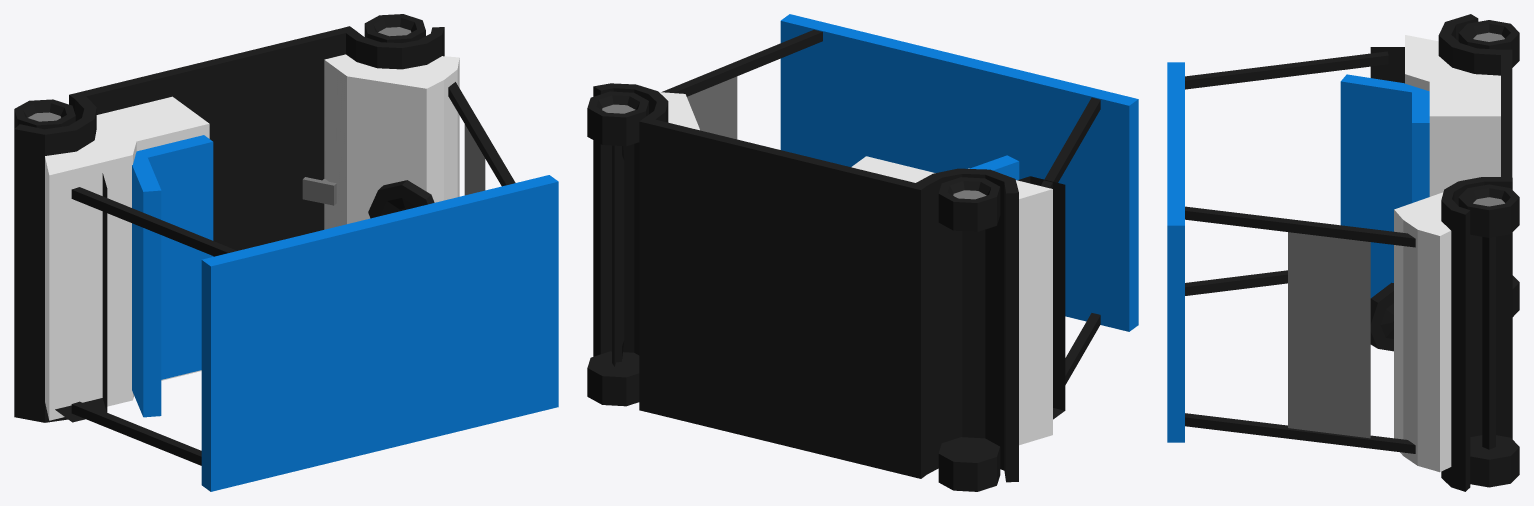
The model's file is cart.glb.
3 renders of one model, left to right at view 1: azimuth 30°, elevation 25°; view 2: azimuth 150°, elevation 25°; view 3: azimuth 270°, elevation 25°, orthographic. The views are drawn at different scales.
Visible parts, largest first — view 1: cart; view 2: cart; view 3: cart.
Part boxes in pixels (x1=…): cart: x1=14, y1=14, x2=558, y2=491; cart: x1=587, y1=14, x2=1138, y2=491; cart: x1=1167, y1=14, x2=1519, y2=491.
Size of the model in its own units: 0.9746 by 0.625 by 0.7203.
1 material, 1 textured.
